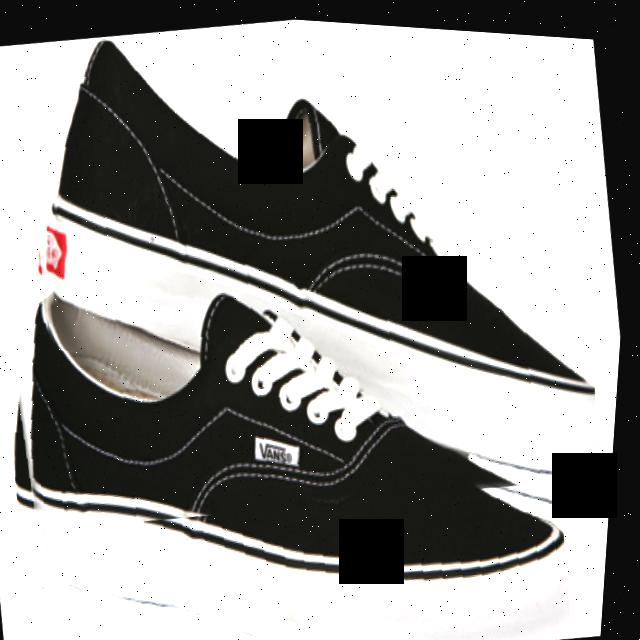shoe: (0, 0, 640, 640), (0, 1, 633, 557), (0, 212, 601, 640)
